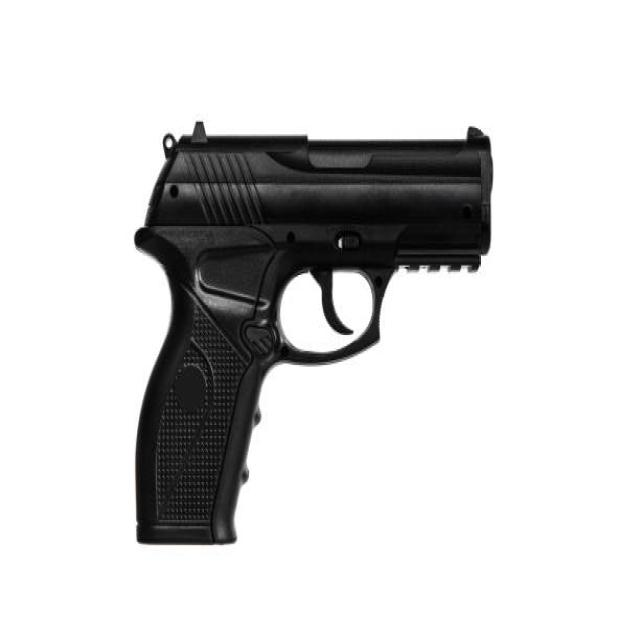pistol: (129, 117, 504, 555)
